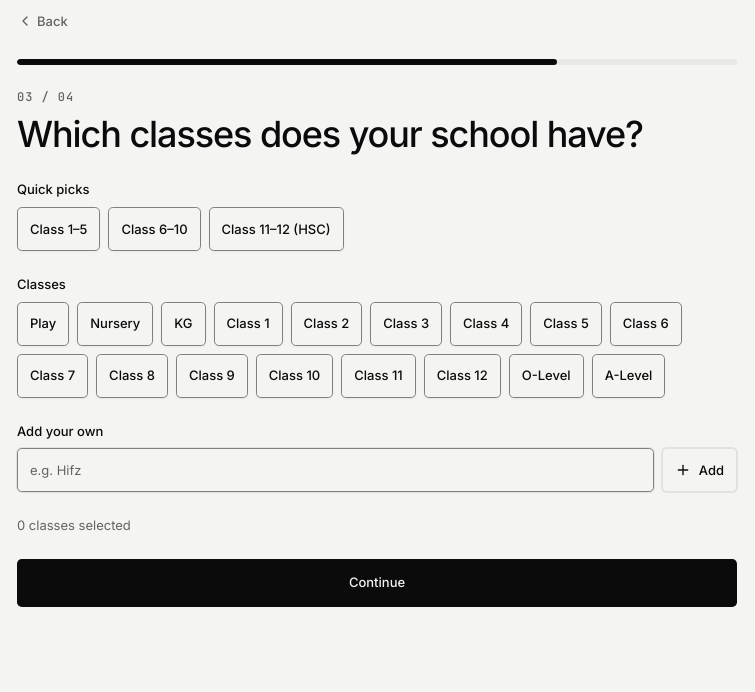
Test: step 3 — classes › blocks Continue with a reason when nothing is picked
Step 1. Click the button "Continue" → {"x": 377, "y": 583}, box [17,559,737,607]
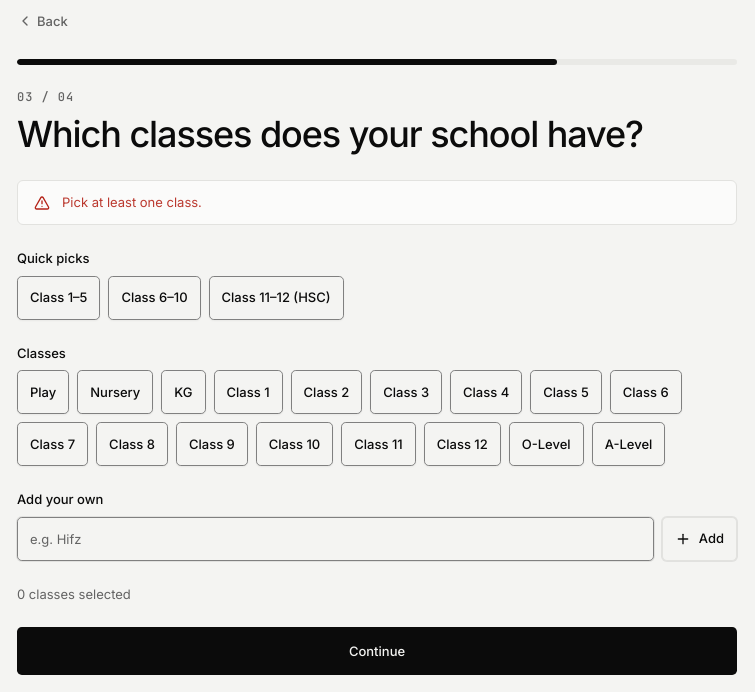
Result: the text "Pick at least one class." is shown at [62,194,202,210]
